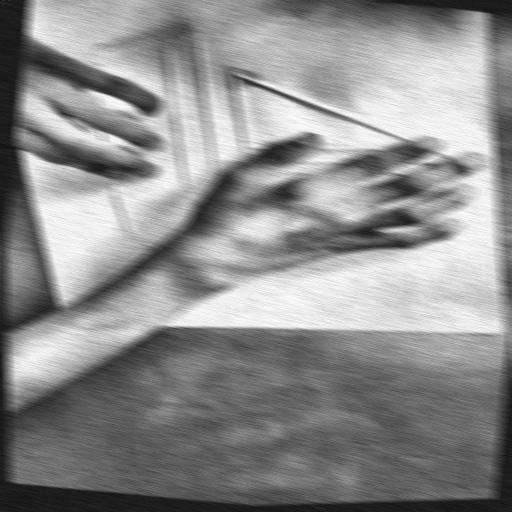boat: (64, 19, 494, 280)
bottom_left: (64, 320, 74, 325)
top_left: (498, 330, 509, 335)
